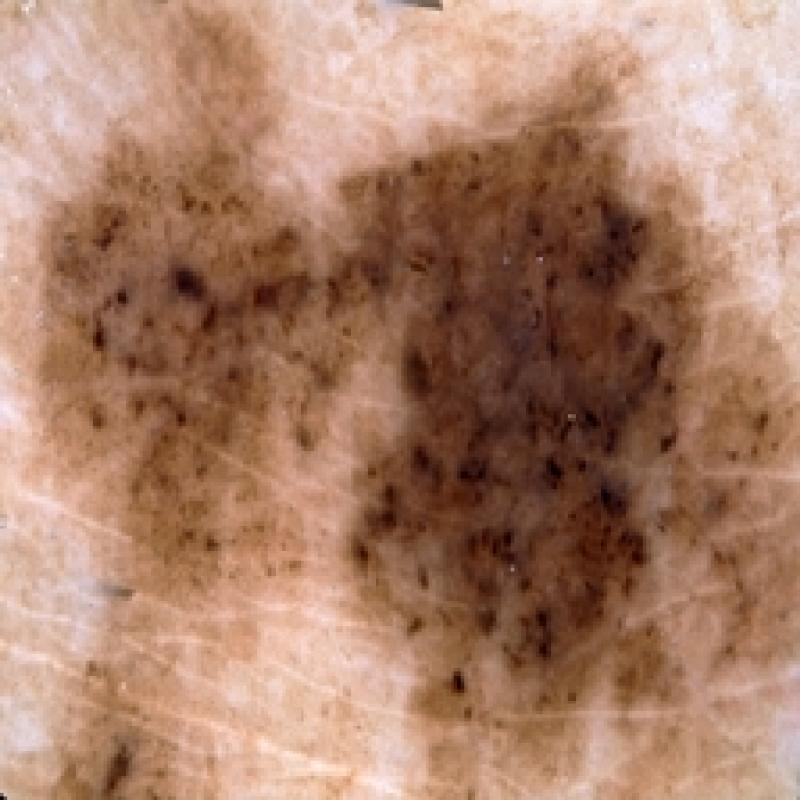malignant: (28, 36, 754, 751)
